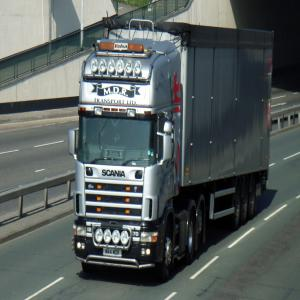Vehicle-registration-plate: (105, 247, 122, 258)
